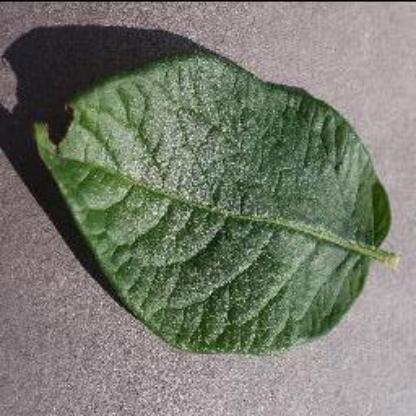Healthy-plant: (26, 49, 402, 358)
